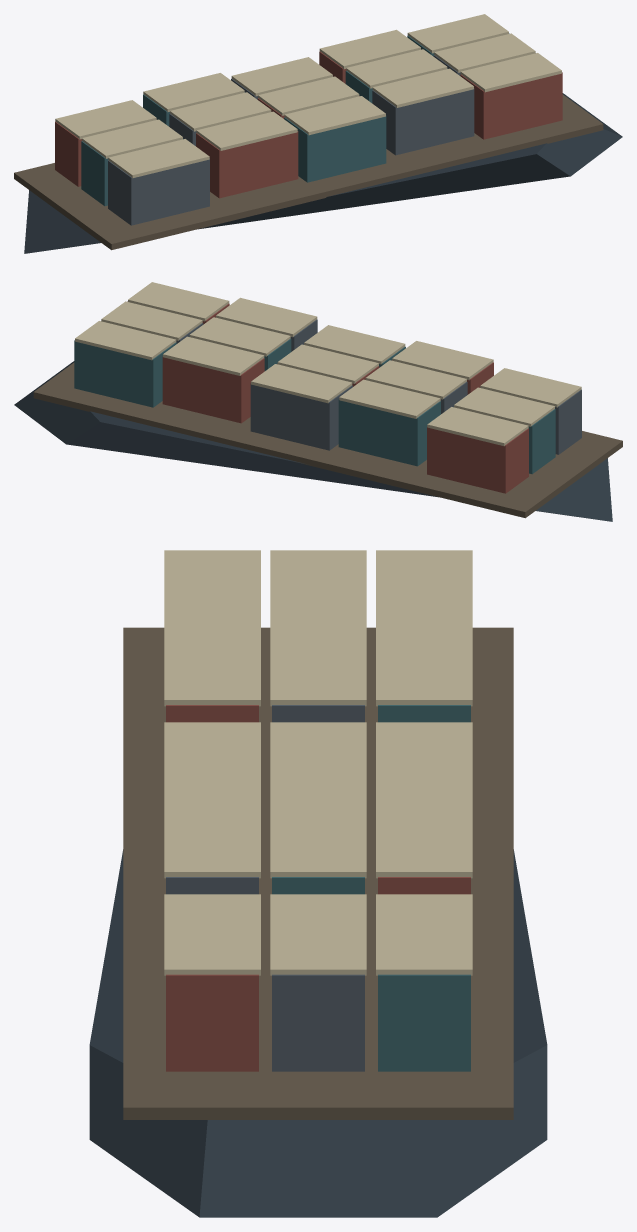
File: cargo_barge_gotham_river.glb
3 renders of one model, top to bottom at view 1: azimuth 30°, elevation 25°; view 2: azimuth 150°, elevation 25°; view 3: azimuth 270°, elevation 25°, orthographic. The views are drawn at different scales.
Parts seen in each view (by area): view 1: Barge_deck.003, Cargo_Barge_box_hull.003, Barge_cargo_container.055, Barge_cargo_container.056, Barge_cargo_container.058, Barge_cargo_container.057, Barge_cargo_container.059, Container_roof_rib.056, Container_roof_rib.055, Container_roof_rib.057, Container_roof_rib.058, Container_roof_rib.059 (+16 smaller); view 2: Barge_deck.003, Cargo_Barge_box_hull.003, Barge_cargo_container.045, Barge_cargo_container.046, Barge_cargo_container.048, Barge_cargo_container.047, Barge_cargo_container.049, Container_roof_rib.046, Container_roof_rib.045, Container_roof_rib.047, Container_roof_rib.048, Container_roof_rib.049 (+16 smaller); view 3: Barge_deck.003, Cargo_Barge_box_hull.003, Barge_cargo_container.049, Barge_cargo_container.054, Barge_cargo_container.059, Container_roof_rib.049, Container_roof_rib.054, Container_roof_rib.059, Container_roof_rib.046, Container_roof_rib.048, Container_roof_rib.051, Container_roof_rib.053 (+14 smaller).
Boxes of the visible parts, x1,y1,x2,y2 form: Barge_deck.003: (14,94,603,250); Cargo_Barge_box_hull.003: (24,93,622,253); Barge_cargo_container.055: (108,158,209,225); Barge_cargo_container.056: (196,131,298,198); Barge_cargo_container.058: (372,88,474,155); Barge_cargo_container.057: (284,115,386,182); Barge_cargo_container.059: (460,72,562,139); Container_roof_rib.056: (196,111,297,150); Container_roof_rib.055: (108,139,209,178); Container_roof_rib.057: (284,96,385,135); Container_roof_rib.058: (372,68,473,107); Container_roof_rib.059: (460,53,561,92); Barge_deck.003: (33,362,622,518); Cargo_Barge_box_hull.003: (14,361,612,521); Barge_cargo_container.045: (427,426,528,493); Barge_cargo_container.046: (338,399,440,466); Barge_cargo_container.048: (162,356,264,423); Barge_cargo_container.047: (250,383,352,450); Barge_cargo_container.049: (74,340,176,407); Container_roof_rib.046: (339,379,440,418); Container_roof_rib.045: (427,407,528,446); Container_roof_rib.047: (251,364,352,403); Container_roof_rib.048: (163,336,264,375); Container_roof_rib.049: (75,321,176,360); Barge_deck.003: (123,627,513,1119); Cargo_Barge_box_hull.003: (89,849,547,1217); Barge_cargo_container.049: (378,974,470,1071); Barge_cargo_container.054: (272,974,364,1071); Barge_cargo_container.059: (166,974,258,1071); Container_roof_rib.049: (376,894,472,975); Container_roof_rib.054: (270,894,366,975); Container_roof_rib.059: (164,894,260,975); Container_roof_rib.046: (376,625,472,706); Container_roof_rib.048: (376,797,472,878); Container_roof_rib.051: (270,625,366,706); Container_roof_rib.053: (270,797,366,878).
Size of the model in its own units: 15.5 by 2.49 by 5.4.
